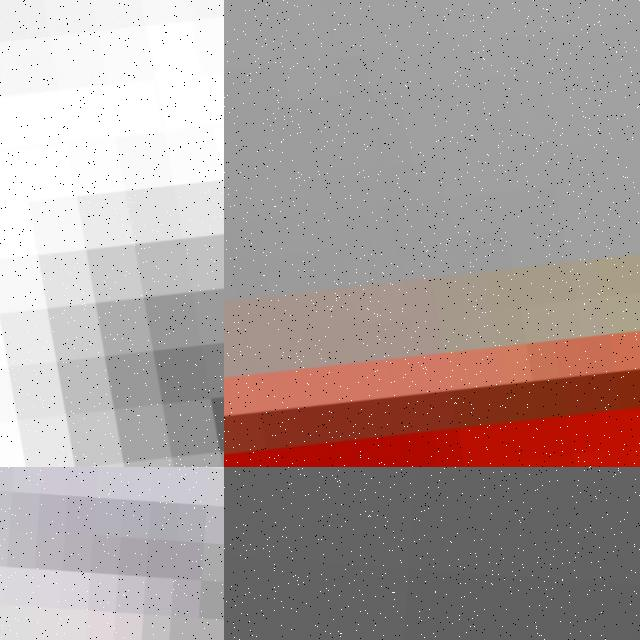0: (0, 0, 224, 467)
drone: (224, 0, 640, 467)
